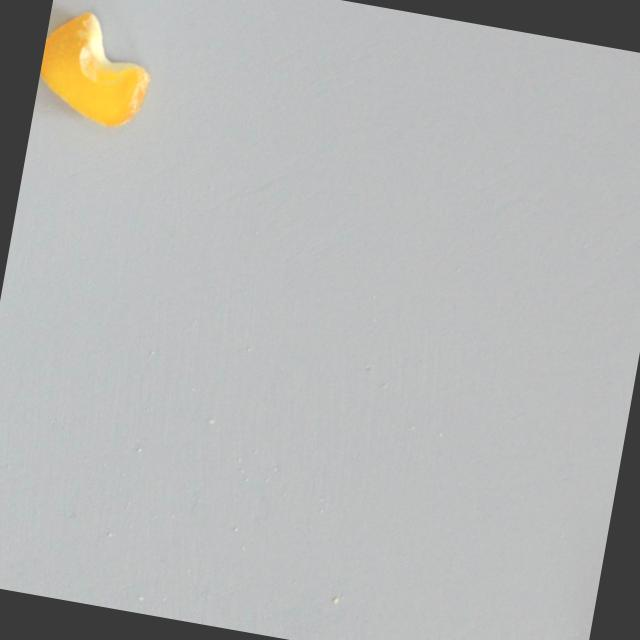pelicula: (31, 5, 159, 133)
